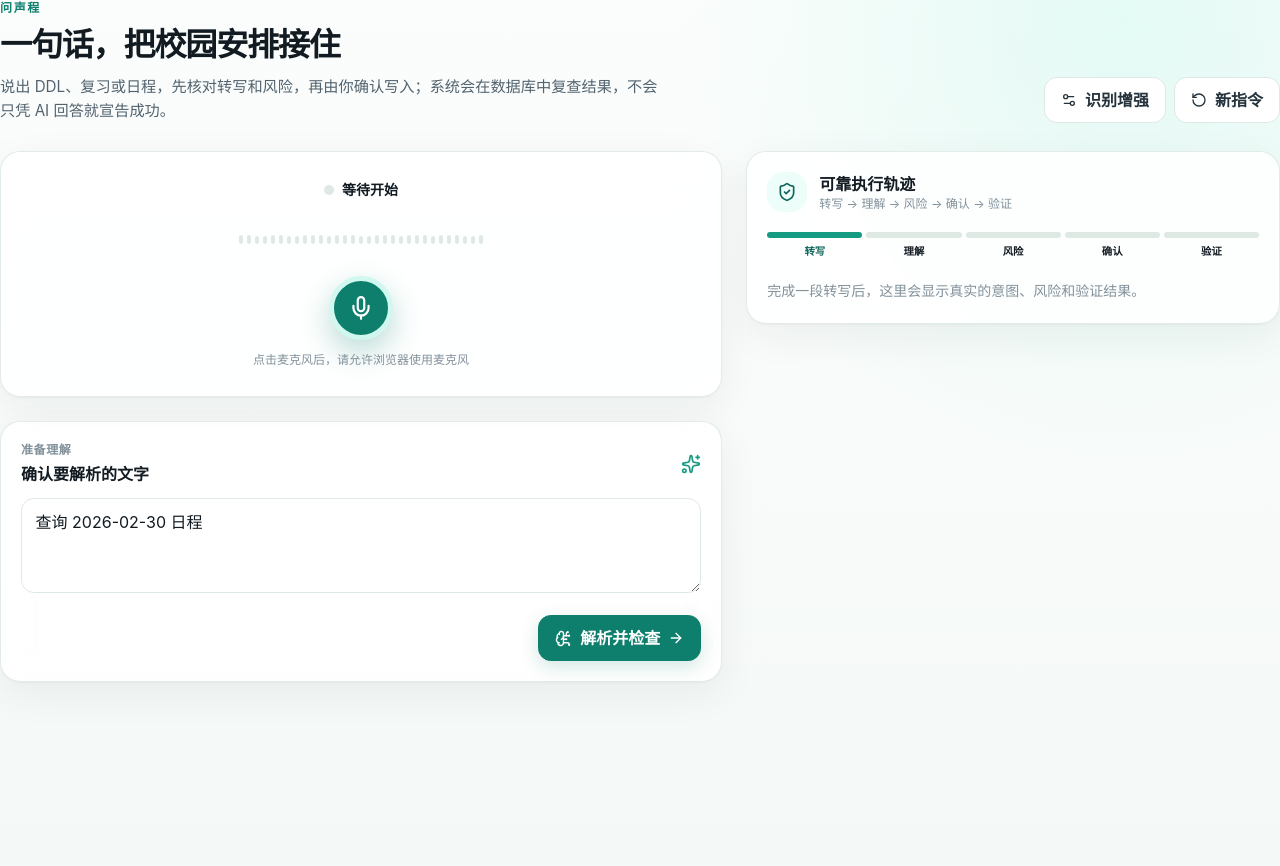
it: VoicePage ASR lineage › rejects invalid calendar dates without querying another day
Click the button "解析并检查": (620, 638) [538,615,701,661]
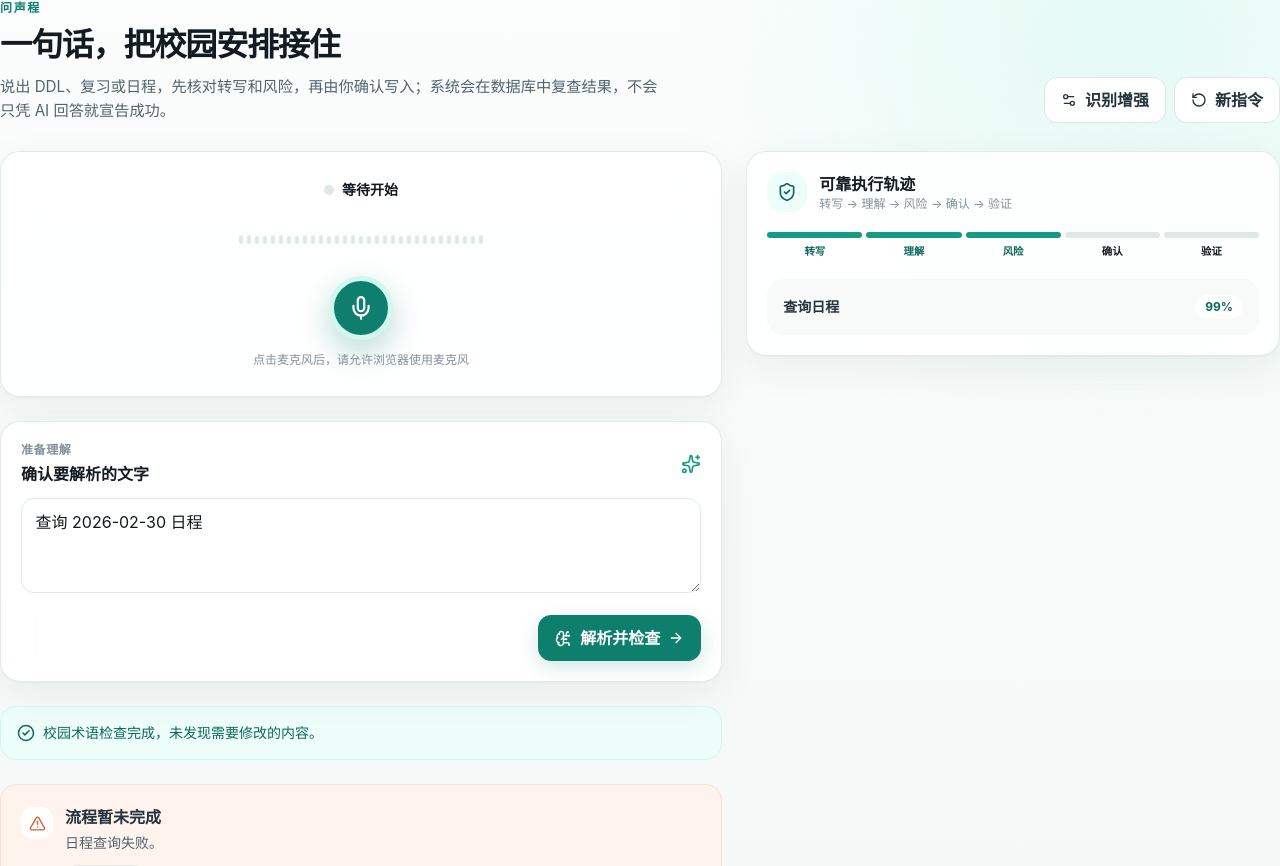
Check: the text "日程查询失败。" is shown, box [65,834,163,851]
